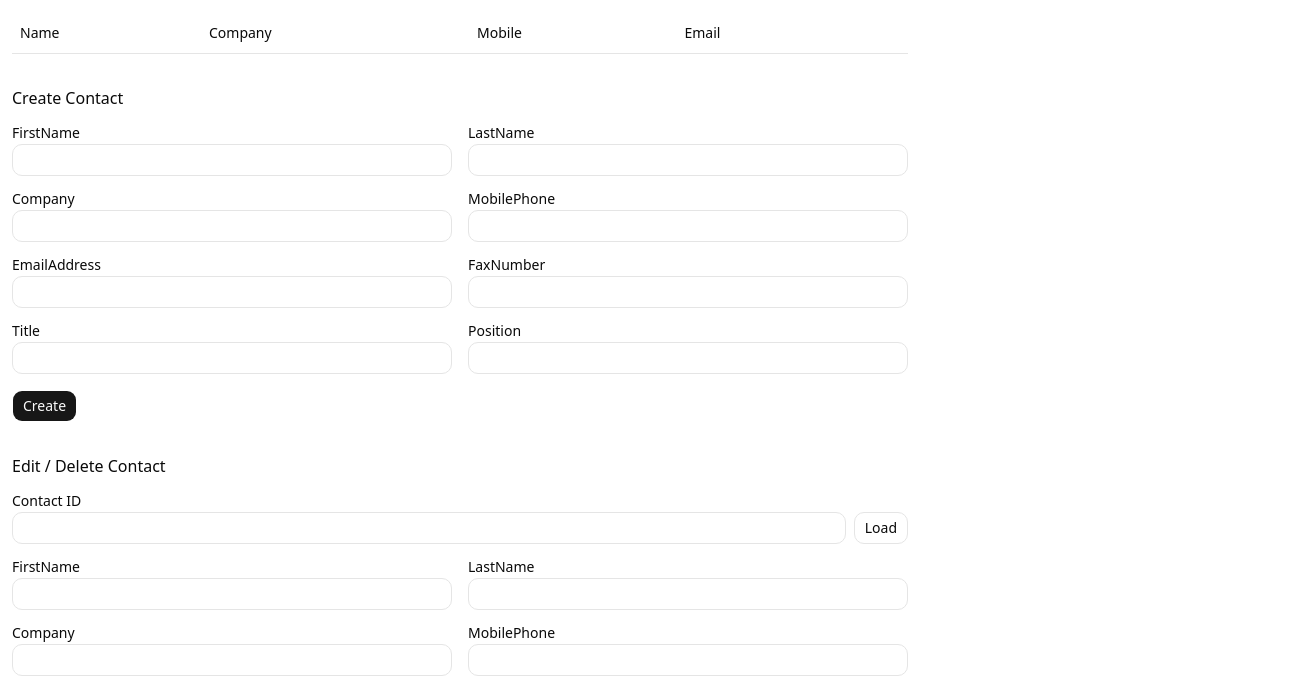
it: ContactsPage › Delete removes the contact and clears the edit form
The image size is (1292, 689).
Expected: the heading "Create Contact" is shown, top-left (12, 86), bottom-right (123, 108)
Type "c-1" into the field labelled "Contact ID" at (429, 528), box top-left (12, 512), bottom-right (846, 544)
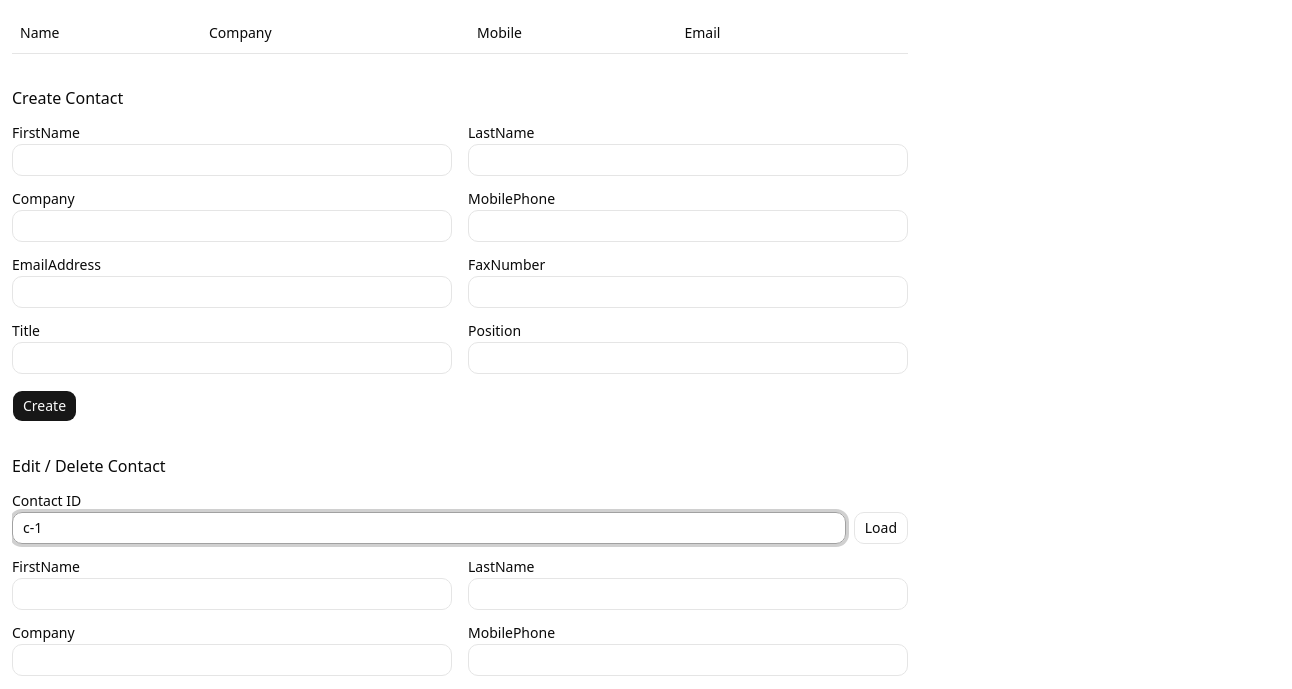
Click the button "Load" at (881, 528), box top-left (854, 512), bottom-right (908, 544)
(page scrolled)
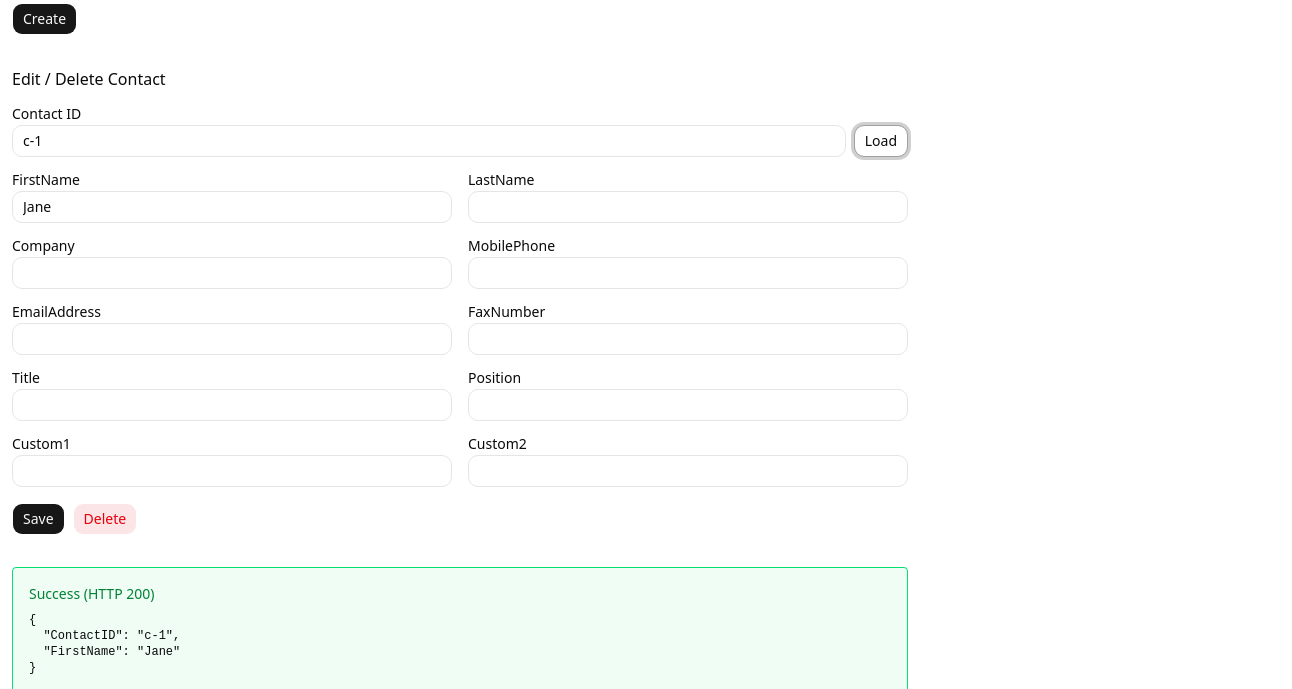
Expected: the field labelled "FirstName" holds "Jane", top-left (12, 190), bottom-right (452, 222)
Click the button "Delete" at (105, 518), box top-left (73, 502), bottom-right (137, 534)
(page scrolled)
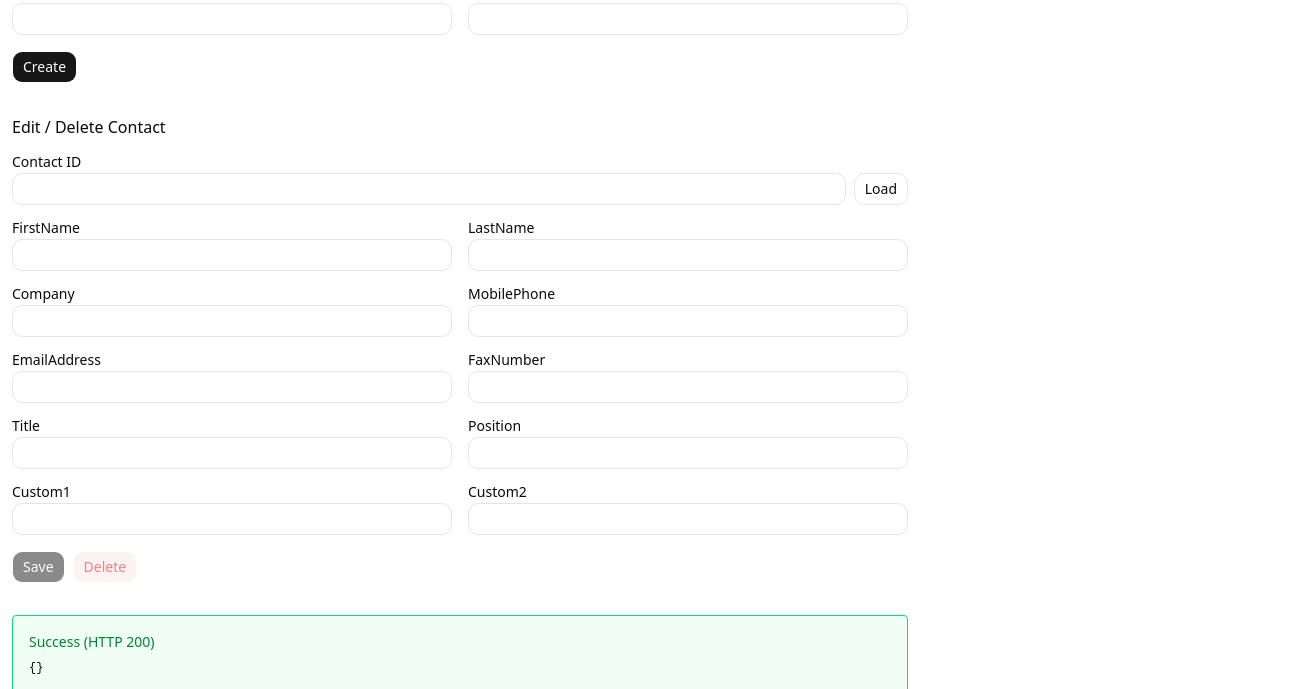
Expected: the button "Save" is disabled, top-left (12, 550), bottom-right (65, 582)
